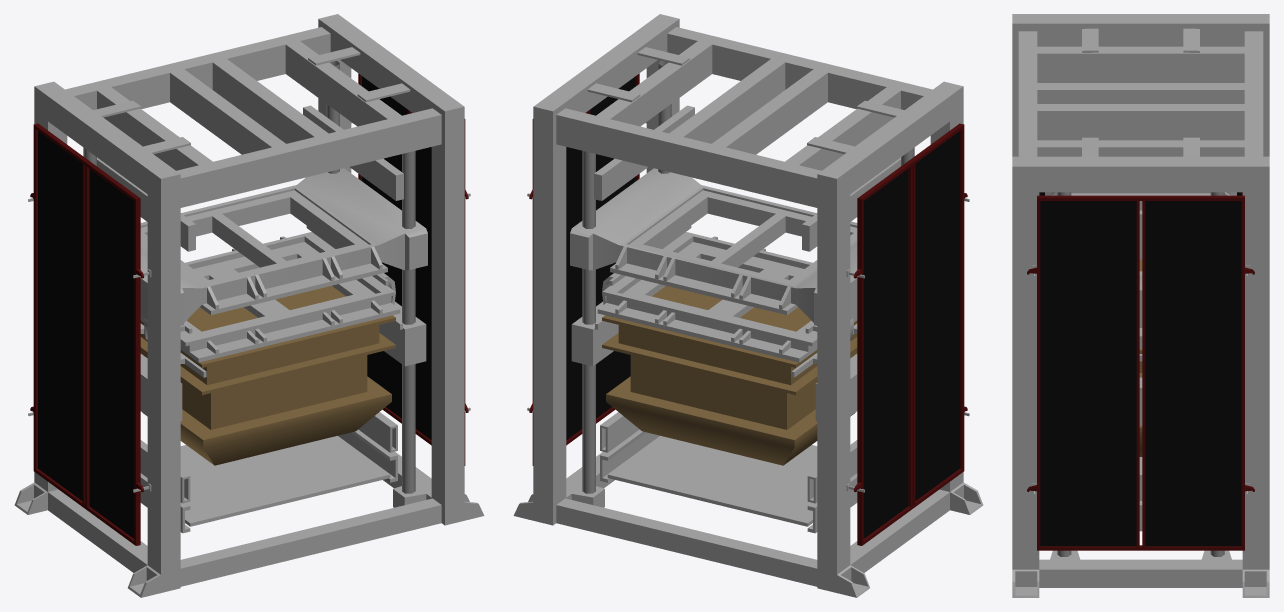
Rendered from SM_ProdLine_Press_D.FBX.
The picture shows the model from 3 angles, left to right: view 1: azimuth 30°, elevation 25°; view 2: azimuth 150°, elevation 25°; view 3: azimuth 270°, elevation 25°; orthographic projection.
Visible parts, largest first — view 1: SM_ProdLine_Press_D_LOD0; view 2: SM_ProdLine_Press_D_LOD0; view 3: SM_ProdLine_Press_D_LOD0.
Part boxes in pixels (x1,y1,x2,y2): SM_ProdLine_Press_D_LOD0: (14,14,484,597); SM_ProdLine_Press_D_LOD0: (513,14,983,597); SM_ProdLine_Press_D_LOD0: (1012,14,1269,597).
Bounding box in the file's own units: 207 × 132 × 239.
